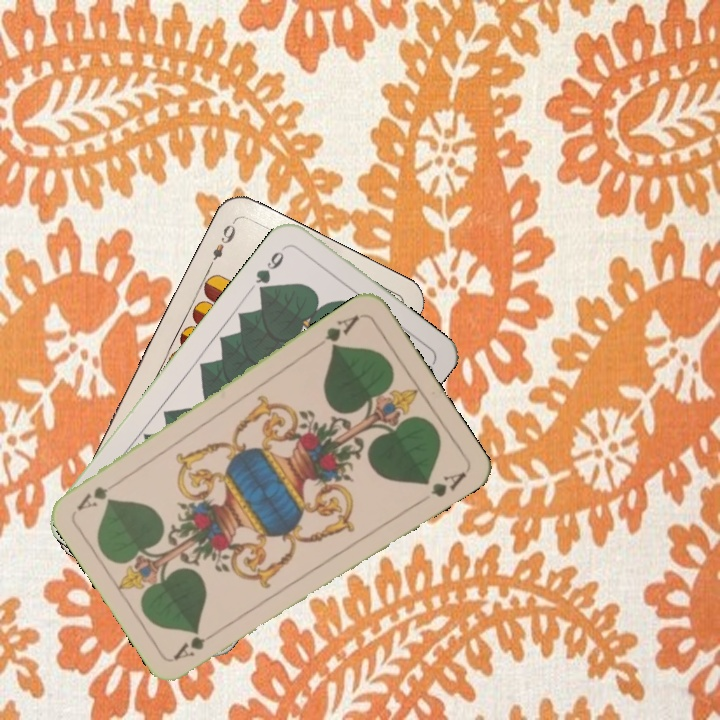E9: (204, 217, 239, 271)
G9: (251, 242, 290, 297)
GA: (170, 625, 224, 663), (321, 310, 362, 351)
